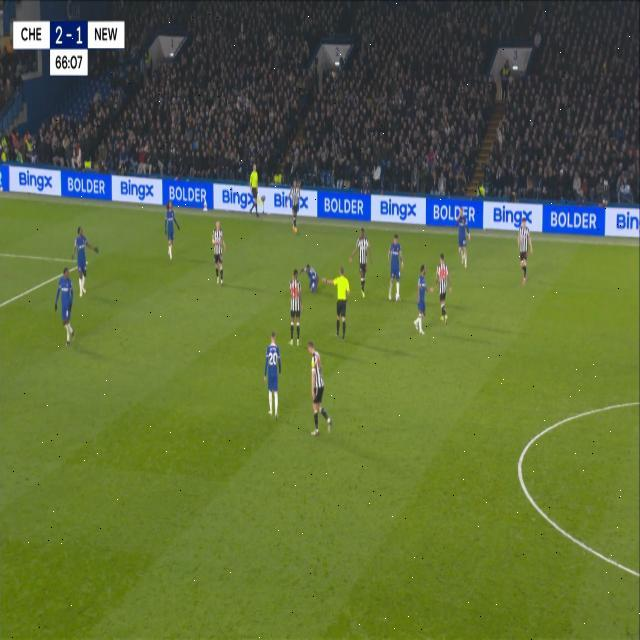Chelsea: (260, 326, 284, 424), (52, 262, 78, 350), (70, 221, 99, 299), (411, 260, 434, 338), (386, 229, 406, 305), (163, 198, 182, 262), (454, 206, 472, 272), (304, 258, 322, 296)
Newcastle: (304, 337, 334, 442), (350, 227, 372, 298), (514, 216, 536, 282), (434, 252, 454, 321), (286, 266, 302, 348), (210, 217, 227, 286), (290, 177, 301, 240)
Refree: (320, 262, 352, 344)
